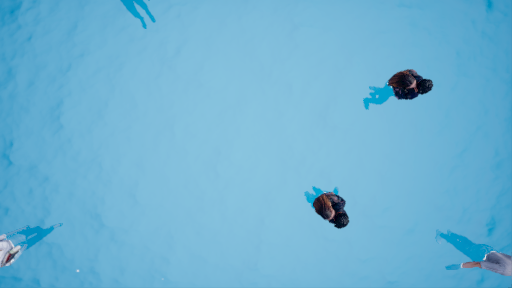person: (430, 221, 512, 281), (358, 65, 435, 115), (295, 183, 356, 229)
